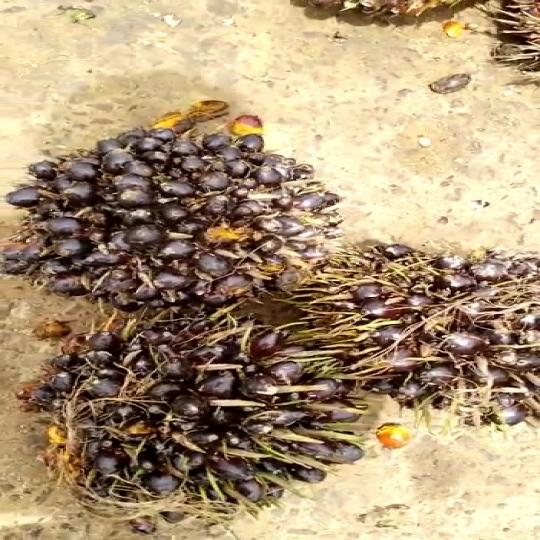mentah: (7, 100, 367, 319), (35, 322, 376, 527), (291, 240, 540, 432)
